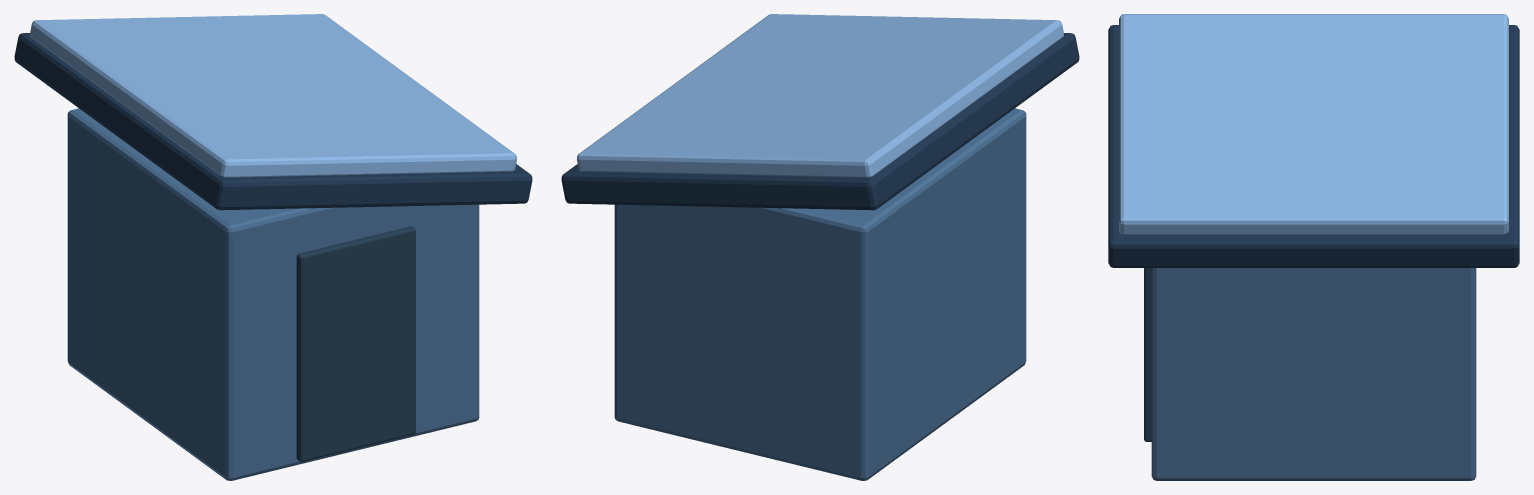
File: winter_shed.glb
3 views of the same model, side by side, from view 1: azimuth 30°, elevation 25°; view 2: azimuth 150°, elevation 25°; view 3: azimuth 270°, elevation 25° (orthographic).
Parts seen in each view (by area): view 1: winter_shed; view 2: winter_shed; view 3: winter_shed.
Part boxes in pixels (x1,y1,x2,y2): winter_shed: [14, 14, 532, 480]; winter_shed: [561, 14, 1079, 480]; winter_shed: [1108, 14, 1519, 480].
Size of the model in its own units: 1.68 by 1.72 by 1.9.
